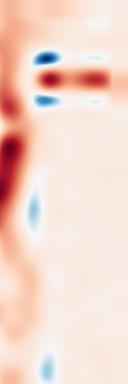filament: (0, 113, 36, 229)
